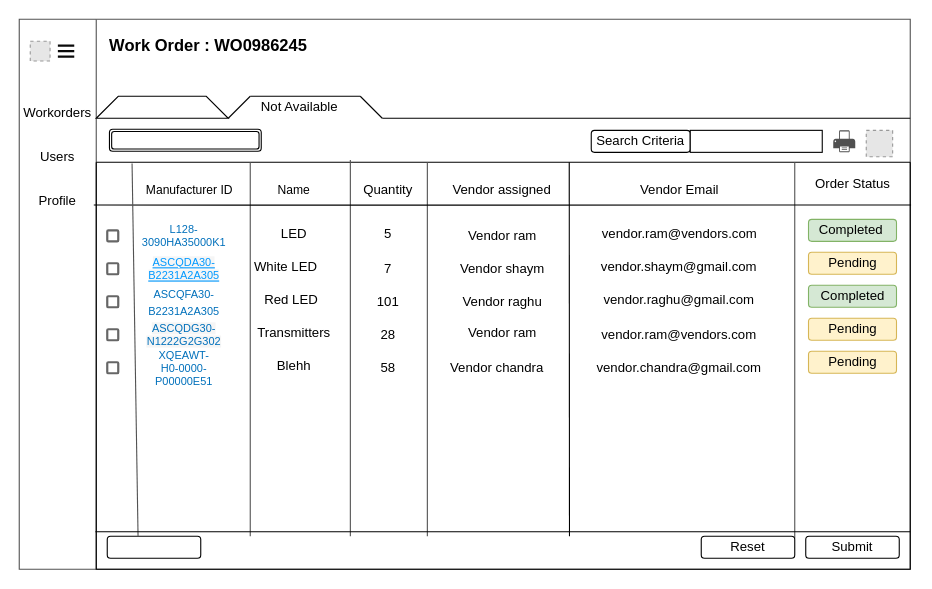
The diagram is 932 pixels wide and 589 high, and some of its shapes have lost their labels. Grey dashed boxes stand in for pictures. The shapes that lost their labels are listed below. From the top down, each one's box as (x1, y1, x2, y2) in pixels, then its label:
(95, 95, 228, 118): Available
(108, 128, 261, 151): Send Reminder
(689, 129, 822, 152): Search here
(106, 535, 201, 558): Cancel
